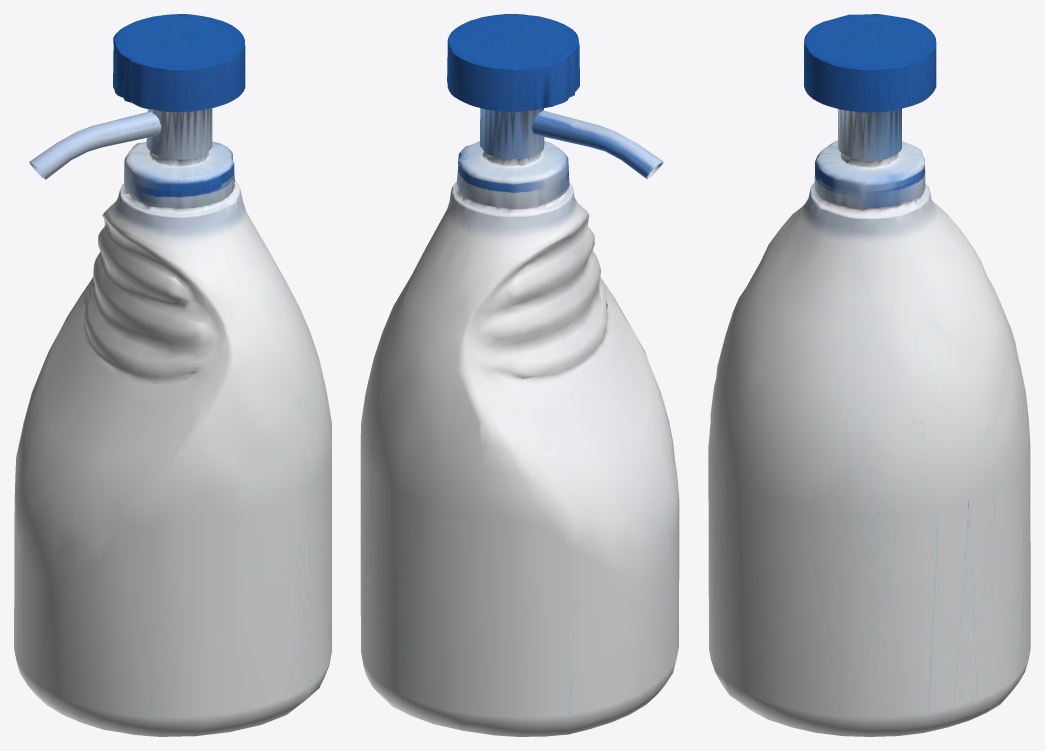
The model's file is wash-bottle.glb.
3 renders of one model, left to right at view 1: azimuth 30°, elevation 25°; view 2: azimuth 150°, elevation 25°; view 3: azimuth 270°, elevation 25°, orthographic.
Bounding box in the file's own units: 0.438 × 0.9507 × 0.435.
1 material, 1 textured.
